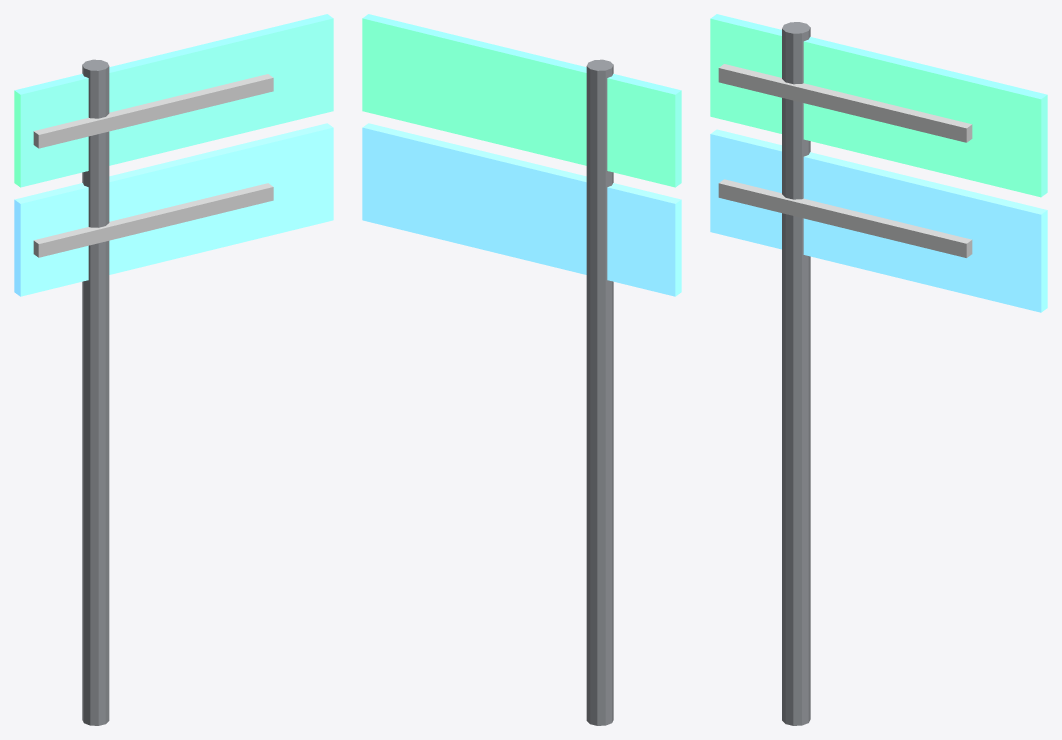
Rendered from car-park-and-road-vehicle-fleet-wayfinding-sign-0c2ff6c8__32553.glb.
3 views of the same model, side by side, from view 1: azimuth 30°, elevation 25°; view 2: azimuth 150°, elevation 25°; view 3: azimuth 330°, elevation 25° (orthographic). The views are drawn at different scales.
Visible parts, largest first — view 1: wayfinding-sign; view 2: wayfinding-sign; view 3: wayfinding-sign.
Part boxes in pixels (bbox=[...]): wayfinding-sign: bbox=[14, 14, 333, 725]; wayfinding-sign: bbox=[362, 14, 681, 725]; wayfinding-sign: bbox=[710, 14, 1047, 725].
Size of the model in its own units: 1.2 by 2.4 by 0.0978.
